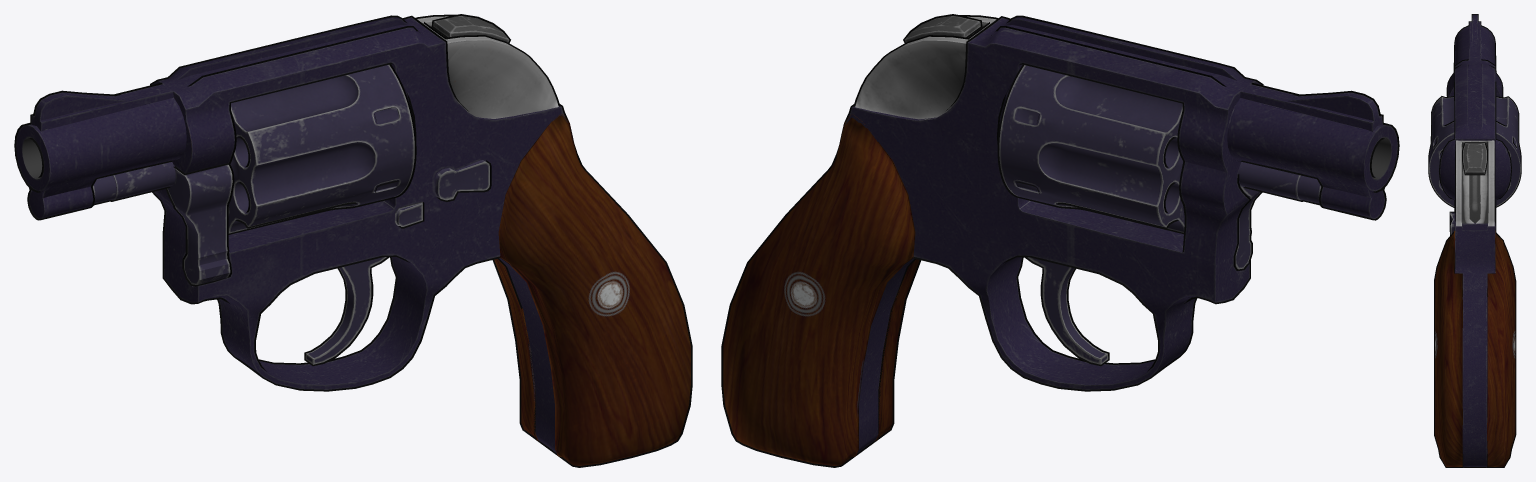
Rendered from Gun.glb.
3 views of the same model, side by side, from view 1: azimuth 30°, elevation 25°; view 2: azimuth 150°, elevation 25°; view 3: azimuth 270°, elevation 25° (orthographic). The views are drawn at different scales.
Parts seen in each view (by area): view 1: Gun; view 2: Gun; view 3: Gun.
Boxes of the visible parts, left/top/right/bottom form: Gun: left=14, top=14, right=692, bottom=467; Gun: left=721, top=14, right=1399, bottom=467; Gun: left=1428, top=14, right=1521, bottom=467.
Bounding box in the file's own units: 0.086 × 0.0615 × 0.0185.
Materials: 2 (2 with a texture image).
